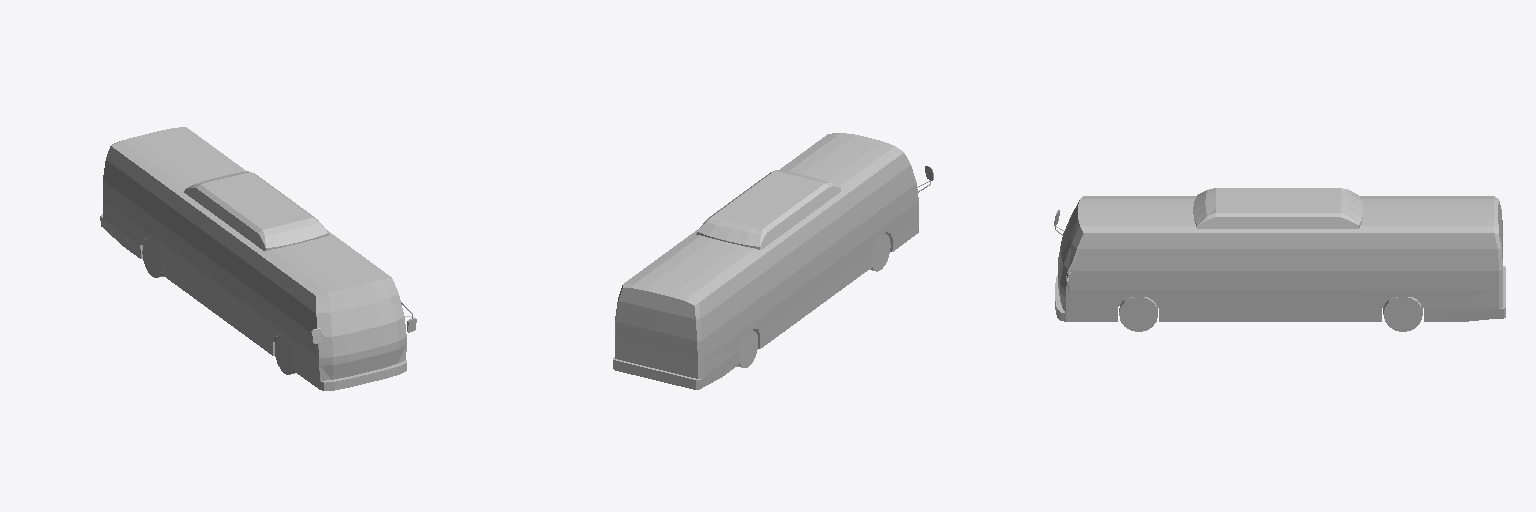
The model's file is bus.obj.
3 views of the same model, side by side, from view 1: azimuth 30°, elevation 25°; view 2: azimuth 150°, elevation 25°; view 3: azimuth 270°, elevation 25° (orthographic).
Parts seen in each view (by area): view 1: Orion_City_bus:Box02_0; view 2: Orion_City_bus:Box02_0; view 3: Orion_City_bus:Box02_0.
Part boxes in pixels (x1,y1,x2,y2): Orion_City_bus:Box02_0: (100, 127, 416, 390); Orion_City_bus:Box02_0: (613, 133, 933, 389); Orion_City_bus:Box02_0: (1054, 188, 1505, 331).
Bounding box in the file's own units: 3.21 × 3.13 × 11.51.